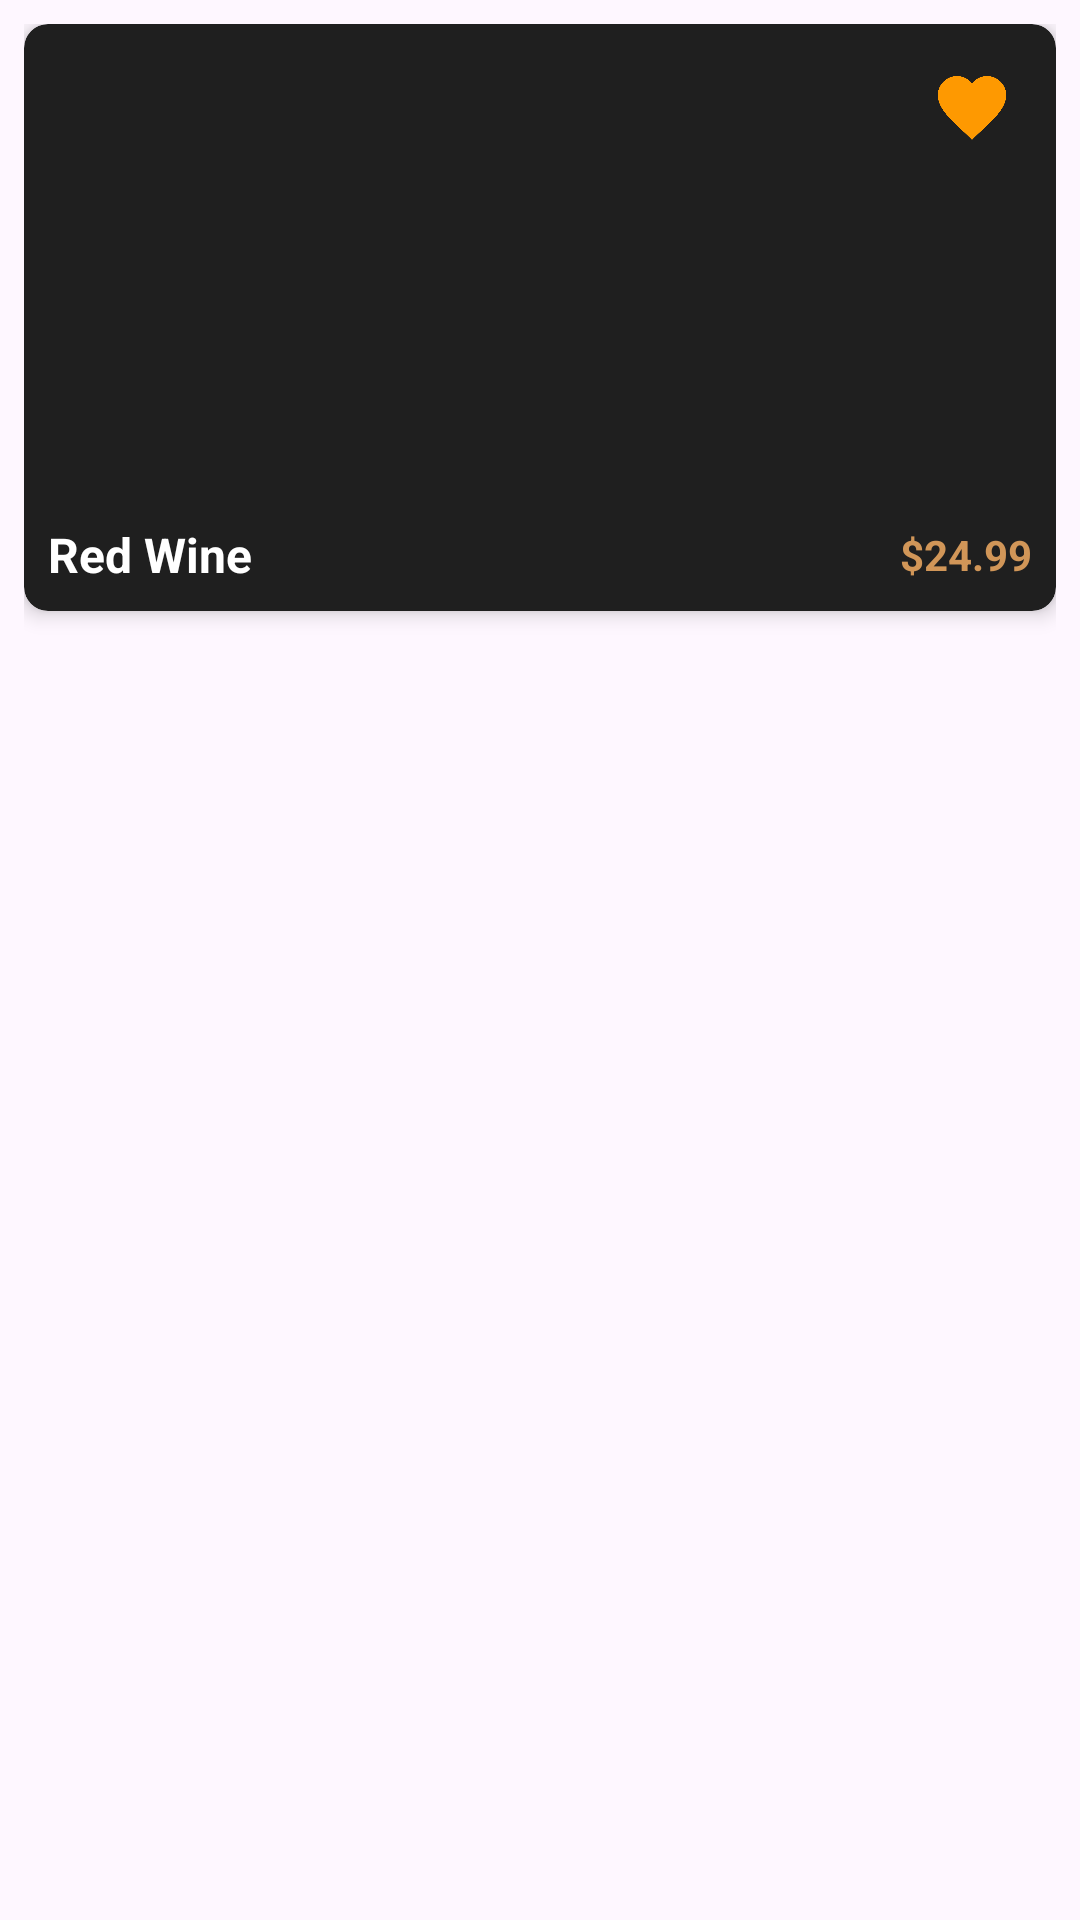

Where to tap for icons on this 1080 x 1920 app screen, as point (x, y):
heart: point (972, 108)
